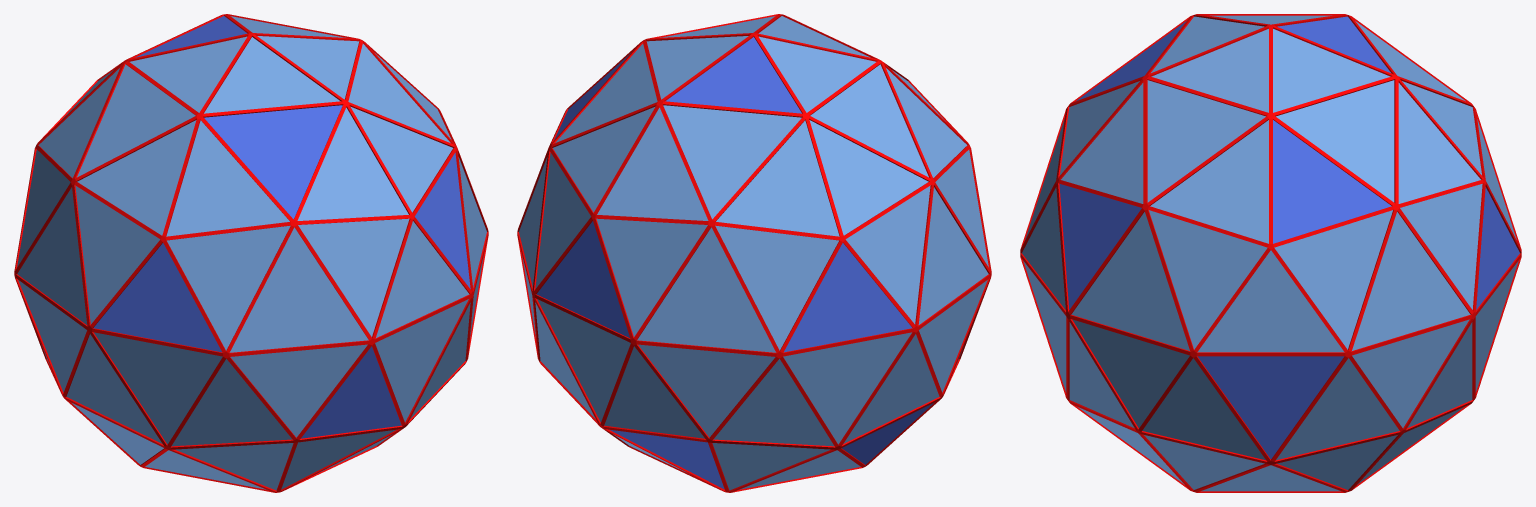
The model's file is armor.fbx.
3 views of the same model, side by side, from view 1: azimuth 30°, elevation 25°; view 2: azimuth 150°, elevation 25°; view 3: azimuth 270°, elevation 25° (orthographic). The views are drawn at different scales.
Parts seen in each view (by area): view 1: armor; view 2: armor; view 3: armor.
Part boxes in pixels (<box>): armor: <box>14,14,488,492</box>; armor: <box>517,14,991,492</box>; armor: <box>1020,14,1521,492</box>.
Size of the model in its own units: 291 by 304 by 304.
